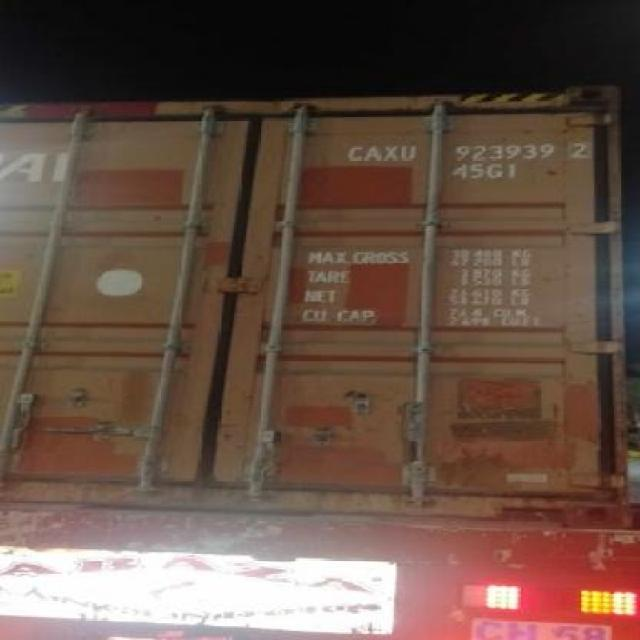ISO: (442, 156, 522, 182)
container_number: (310, 134, 590, 165)
